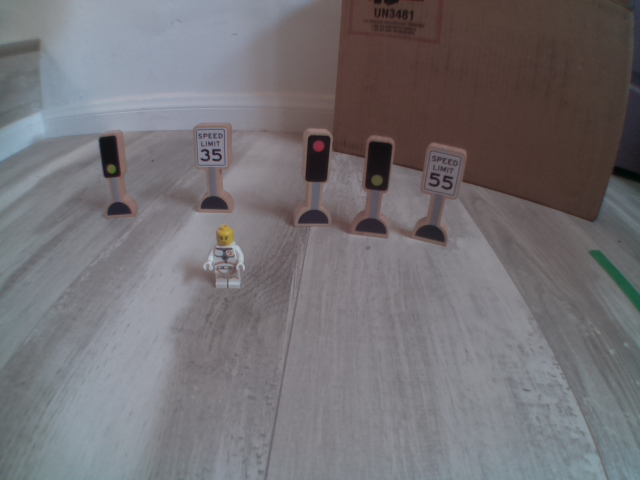Green Traffic Light: (92, 125, 133, 183), (365, 135, 396, 197)
Red Traffic Light: (302, 125, 336, 192)
Speed Limit 35: (192, 117, 237, 174)
Speed Limit 55: (421, 135, 468, 206)
person: (200, 223, 252, 296)
